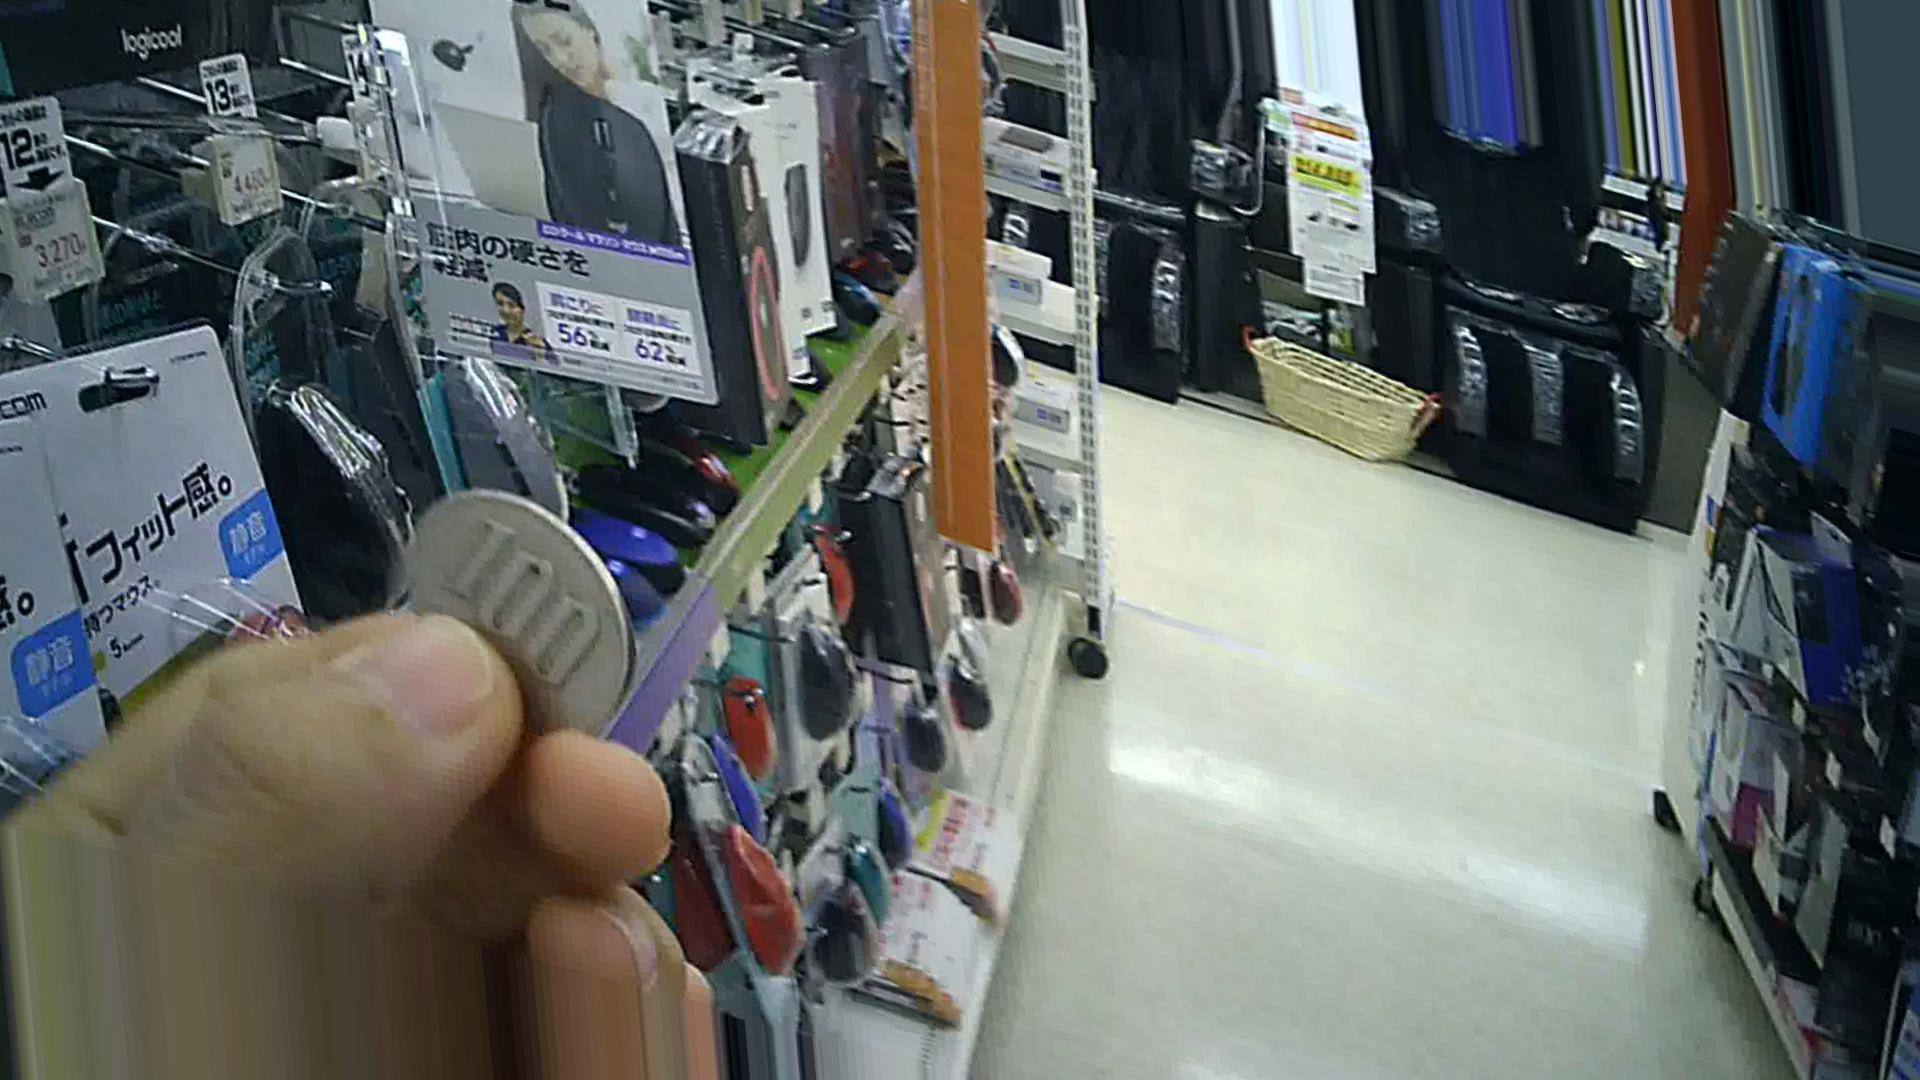100 Yen: (372, 487, 622, 725)
